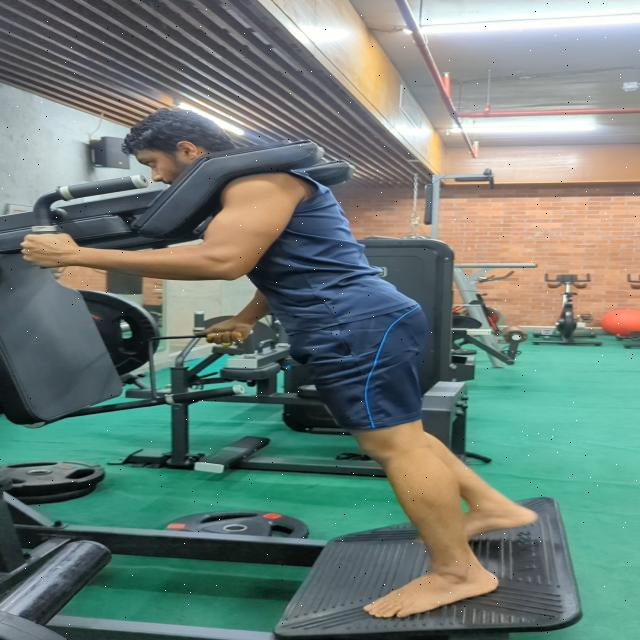Normal_SquatsWithBarbell: (0, 93, 540, 639)
